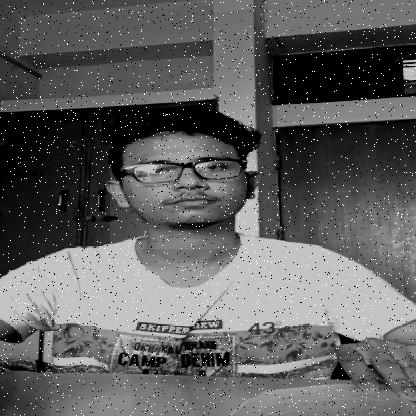Normal: (110, 139, 247, 249)
